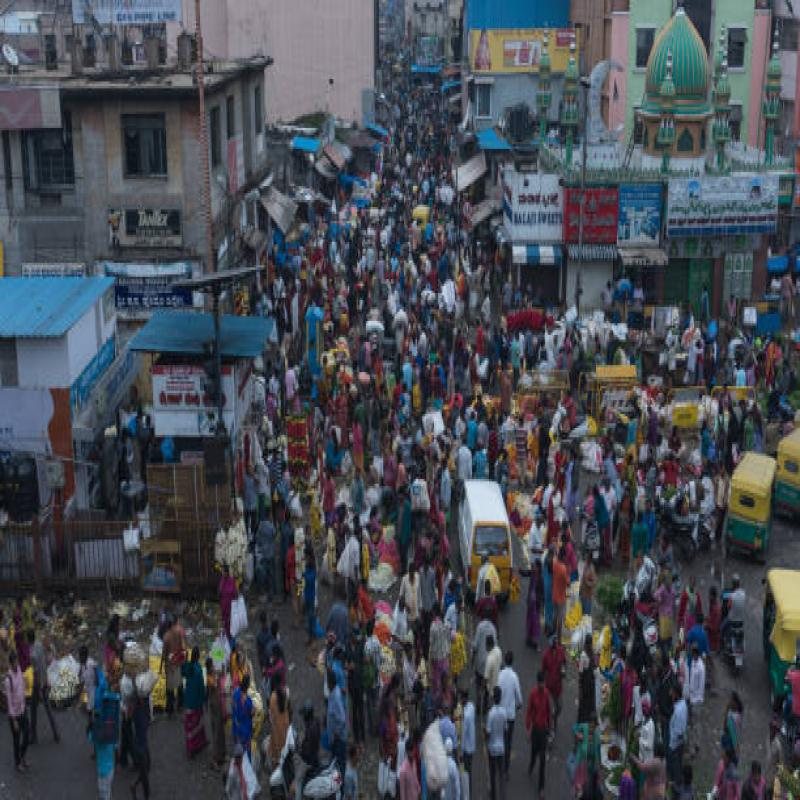bike: (752, 558, 800, 741), (719, 431, 777, 566), (772, 393, 800, 522)
